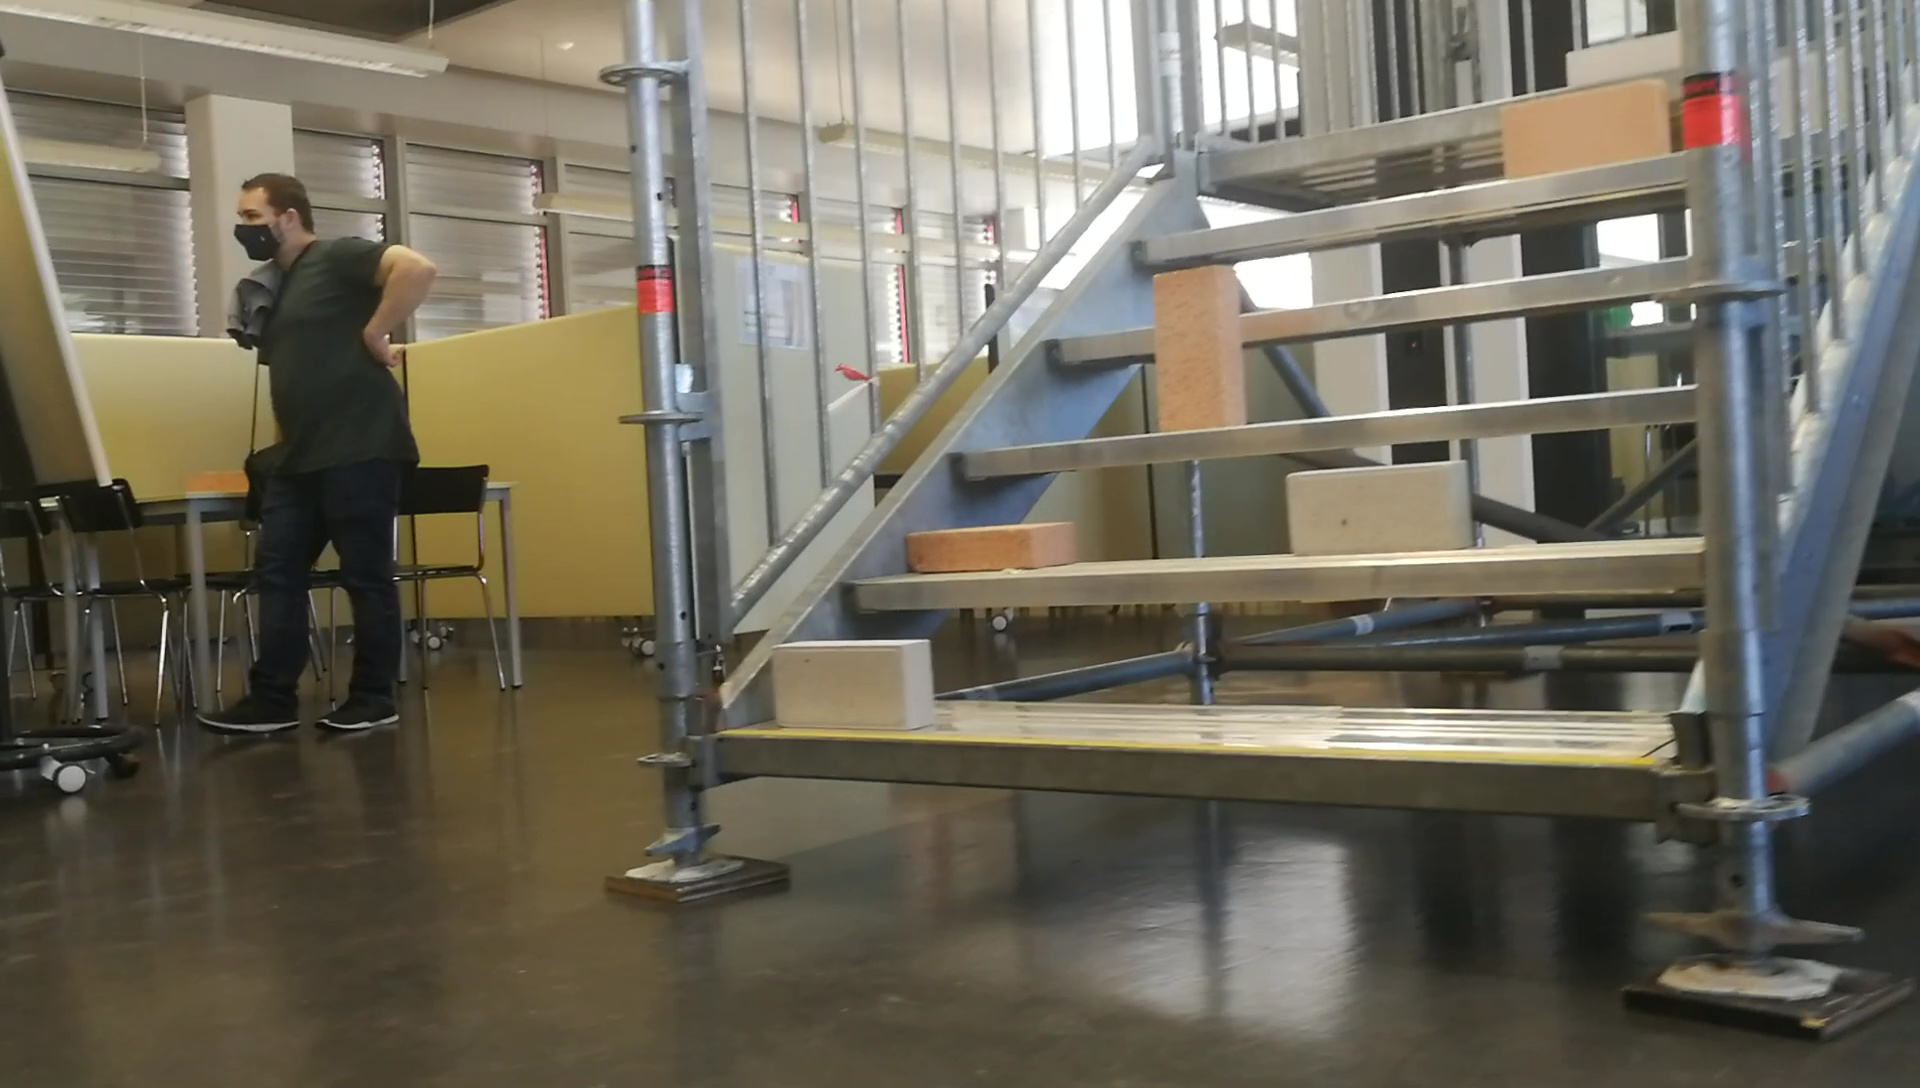brick: (1287, 462, 1468, 558), (1501, 80, 1669, 179), (1153, 268, 1244, 433), (775, 638, 932, 729), (907, 522, 1071, 568), (1569, 33, 1680, 80)
edge: (717, 735, 1654, 820), (953, 386, 1698, 473), (843, 553, 1705, 608)
stairs: (595, 0, 1805, 1043)
